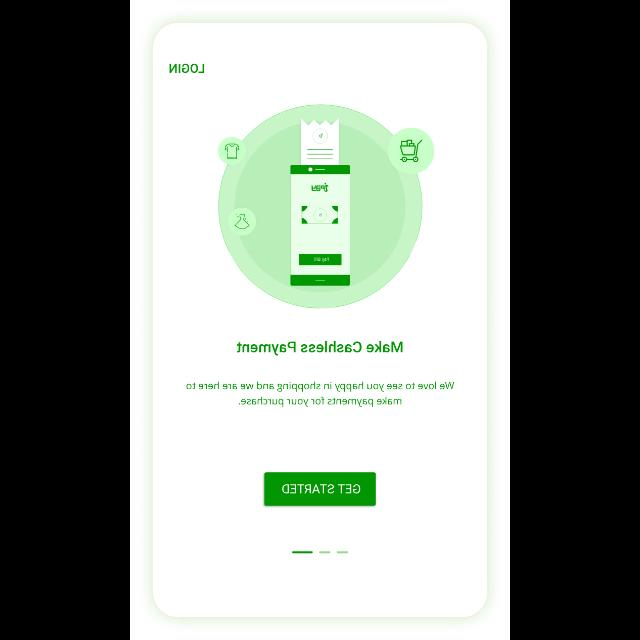image: (218, 105, 434, 309)
pageindicator: (292, 550, 348, 554)
panel: (153, 24, 487, 618)
text: (186, 381, 454, 407), (237, 342, 403, 356), (170, 64, 204, 74)
textbutton: (264, 472, 376, 506)
